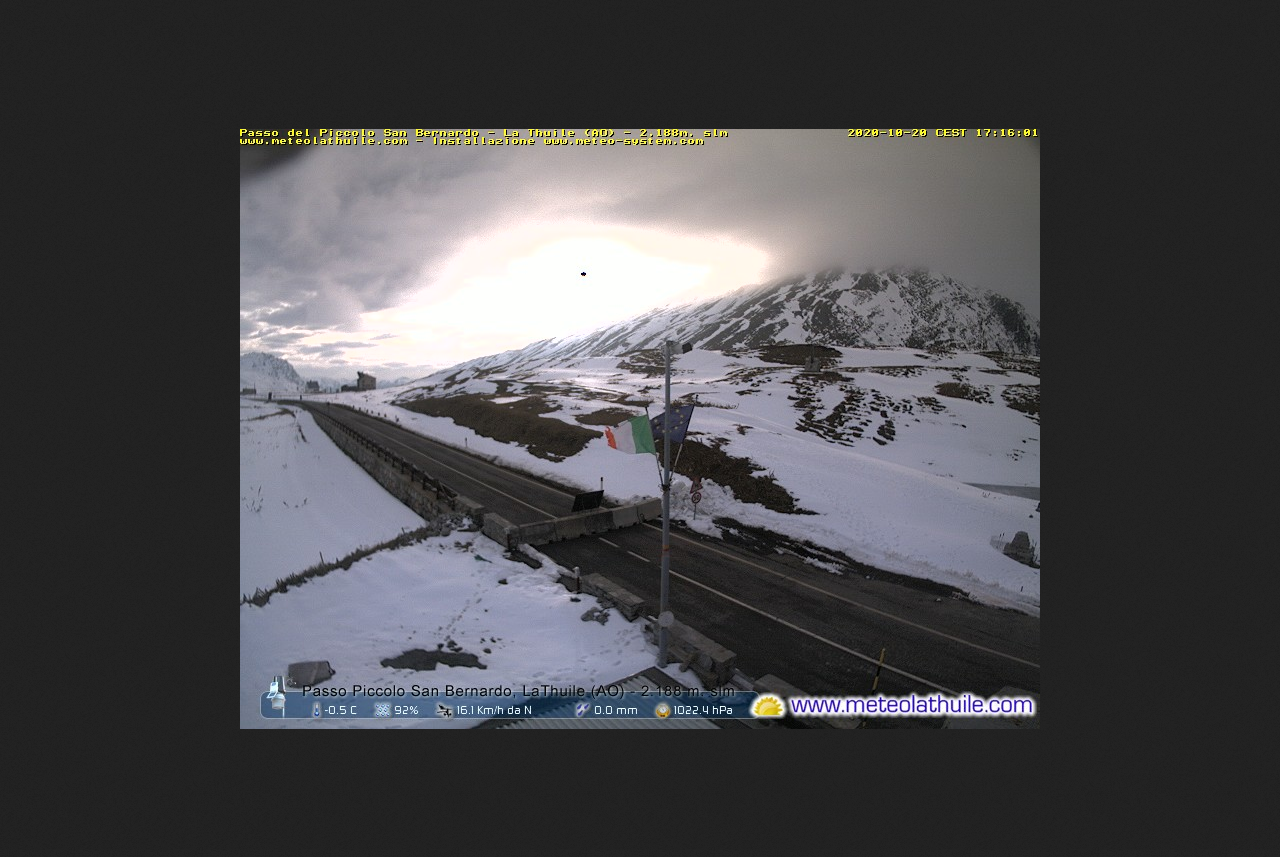yes: (600, 400, 658, 461), (638, 395, 702, 445)
